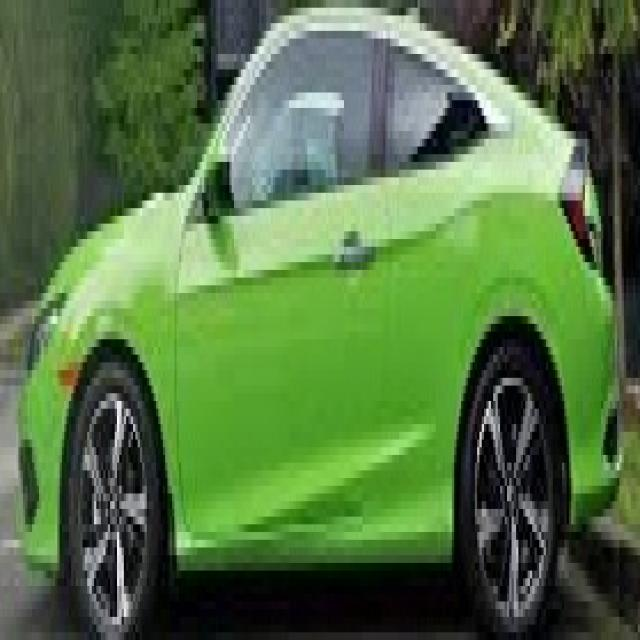green: (18, 7, 639, 640)
